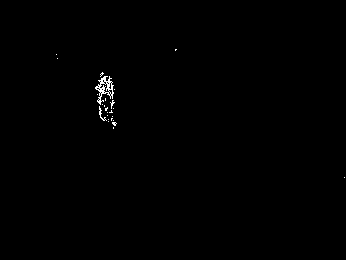person: (94, 73, 119, 129)
